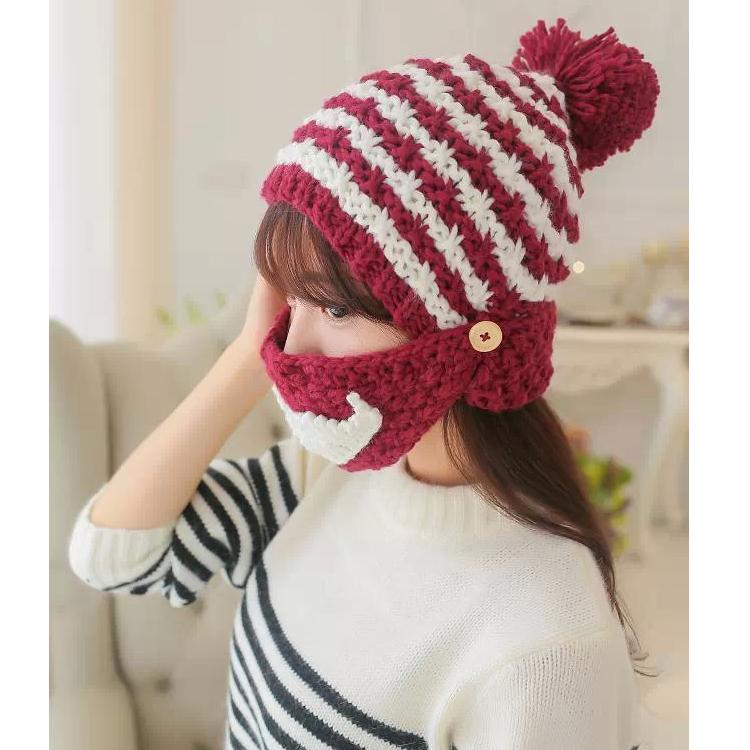WRONG: (274, 234, 451, 459)
